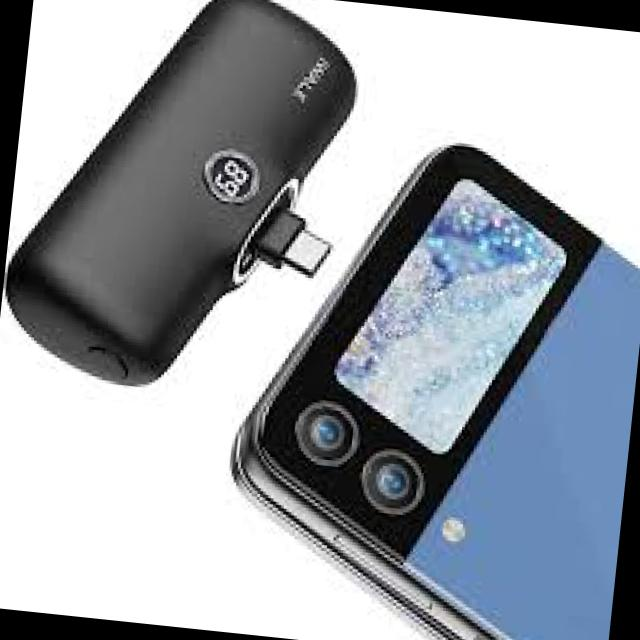portable-charger: (0, 0, 368, 407)
